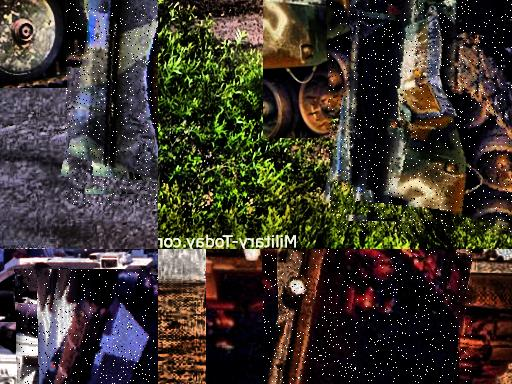tanks: (329, 1, 512, 232), (266, 250, 472, 384), (67, 1, 159, 183), (1, 250, 159, 350), (55, 270, 121, 384)
